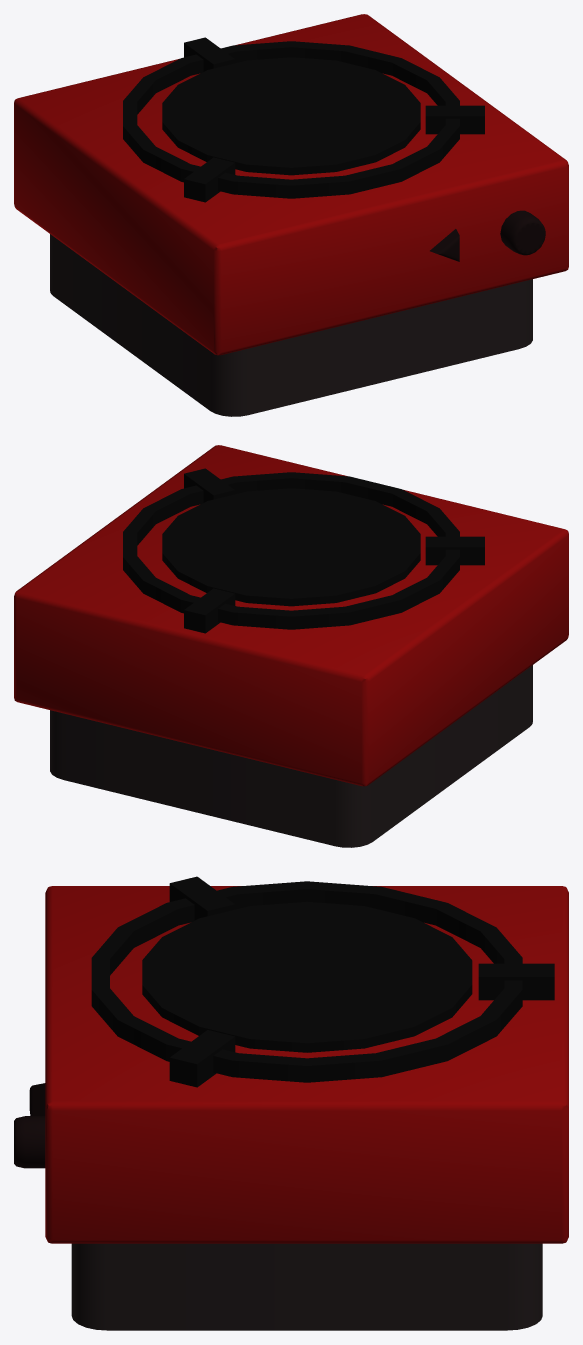
File: Cooker.FBX
3 renders of one model, top to bottom at view 1: azimuth 30°, elevation 25°; view 2: azimuth 150°, elevation 25°; view 3: azimuth 270°, elevation 25°, orthographic. The views are drawn at different scales.
Visible parts, largest first — view 1: Cooker; view 2: Cooker; view 3: Cooker.
Boxes of the visible parts, bbox=[...] form: Cooker: bbox=[14, 14, 568, 416]; Cooker: bbox=[14, 445, 568, 847]; Cooker: bbox=[14, 876, 568, 1330].
Bounding box in the file's own units: 100 × 106 × 54.9.
